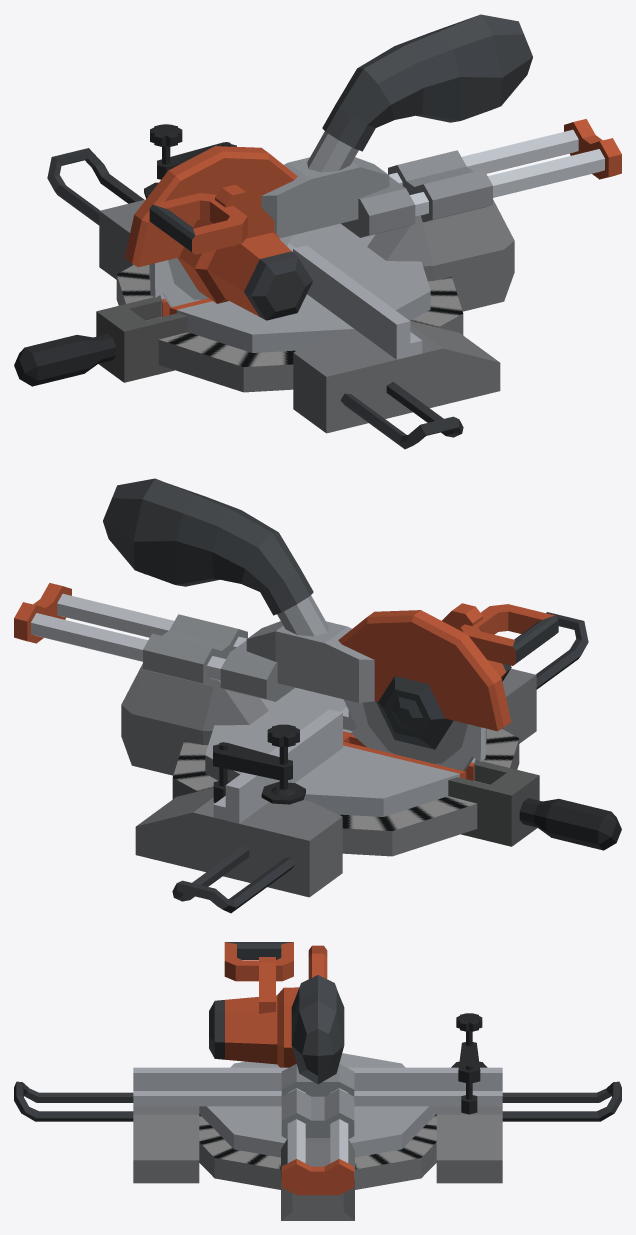
File: SM_Prop_Drop_Saw_01.fbx
3 views of the same model, one above another, from view 1: azimuth 30°, elevation 25°; view 2: azimuth 150°, elevation 25°; view 3: azimuth 270°, elevation 25° (orthographic). The views are drawn at different scales.
Parts seen in each view (by area): view 1: SM_Prop_Drop_Saw_01, SM_Prop_Drop_Saw_01_Saw, SM_Prop_Drop_Saw_01_Slide, SM_Prop_Drop_Saw_01_Blade; view 2: SM_Prop_Drop_Saw_01, SM_Prop_Drop_Saw_01_Saw, SM_Prop_Drop_Saw_01_Slide, SM_Prop_Drop_Saw_01_Blade; view 3: SM_Prop_Drop_Saw_01, SM_Prop_Drop_Saw_01_Saw, SM_Prop_Drop_Saw_01_Slide.
Boxes of the visible parts, x1=… form: SM_Prop_Drop_Saw_01: x1=14, y1=124, x2=514, y2=449; SM_Prop_Drop_Saw_01_Saw: x1=124, y1=14, x2=532, y2=320; SM_Prop_Drop_Saw_01_Slide: x1=341, y1=119, x2=621, y2=237; SM_Prop_Drop_Saw_01_Blade: x1=150, y1=235, x2=292, y2=307; SM_Prop_Drop_Saw_01: x1=121, y1=612, x2=621, y2=913; SM_Prop_Drop_Saw_01_Saw: x1=103, y1=478, x2=558, y2=749; SM_Prop_Drop_Saw_01_Slide: x1=14, y1=583, x2=294, y2=701; SM_Prop_Drop_Saw_01_Blade: x1=343, y1=699, x2=485, y2=771; SM_Prop_Drop_Saw_01: x1=14, y1=1013, x2=621, y2=1220; SM_Prop_Drop_Saw_01_Saw: x1=209, y1=942, x2=344, y2=1084; SM_Prop_Drop_Saw_01_Slide: x1=281, y1=1064, x2=354, y2=1195.
Size of the model in its own units: 147 by 65.49 by 164.
